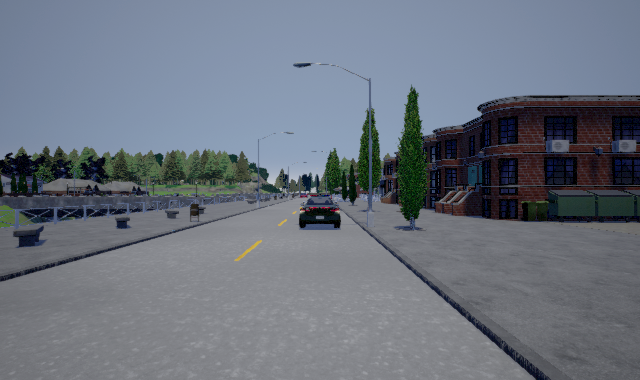vehicle: (299, 194, 341, 228)
